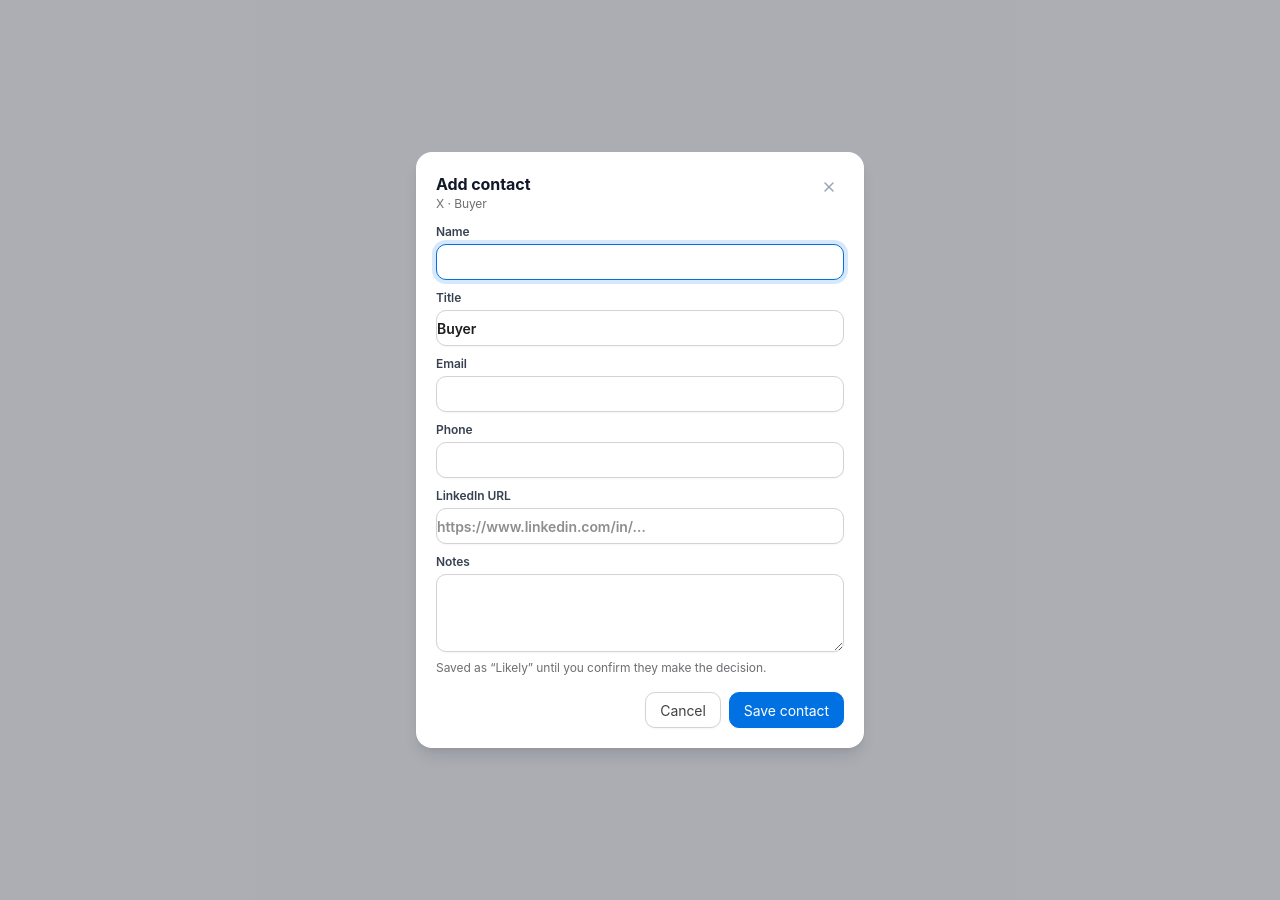
Test: Add contact (docs/mvp/15 §E) › refuses a bad email and keeps the modal open
Type "B" into the field labelled "Name". click: (640, 262)
box: left=436, top=244, right=844, bottom=280
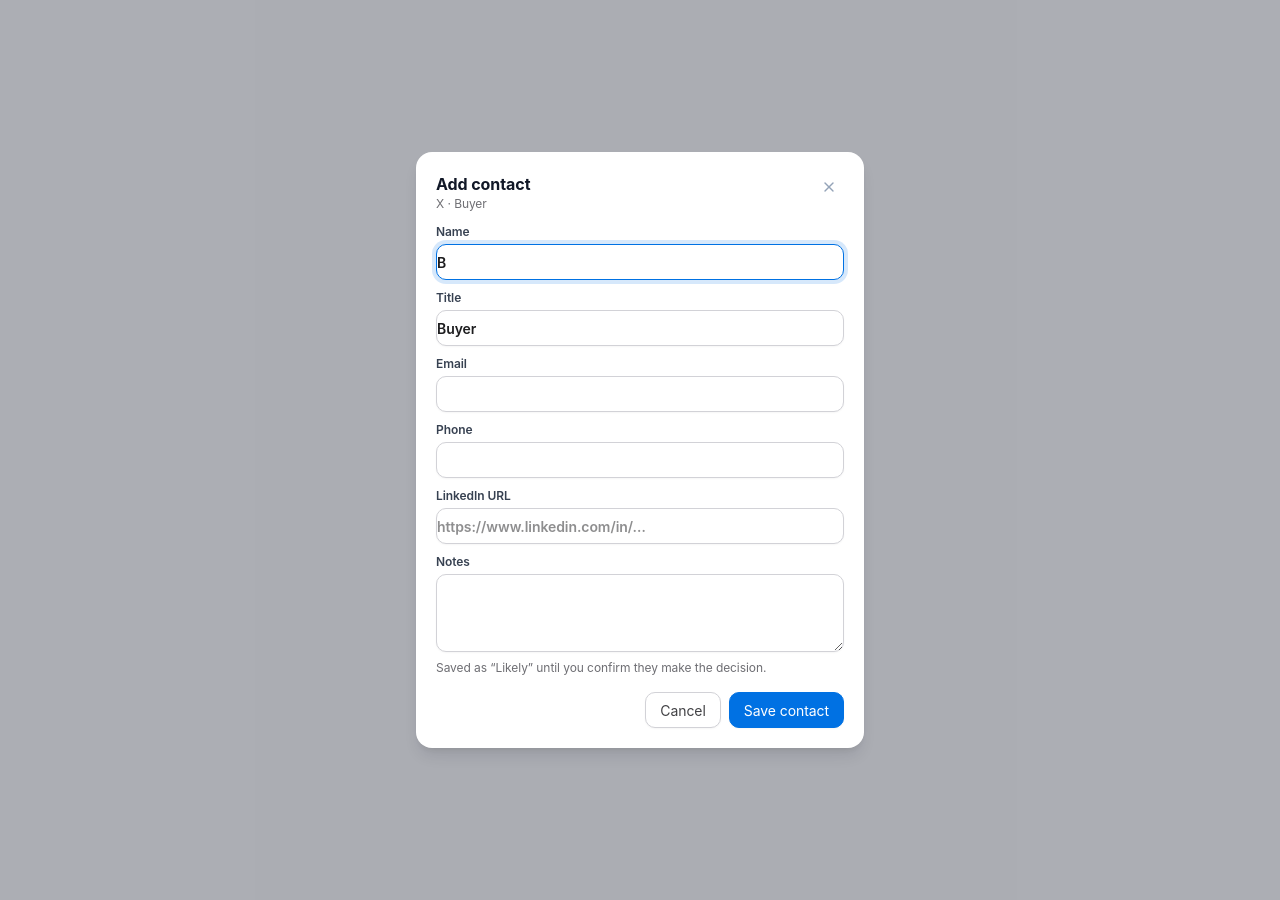
Type "not-an-email" into the field labelled "Email". click: (640, 394)
box: left=436, top=376, right=844, bottom=412
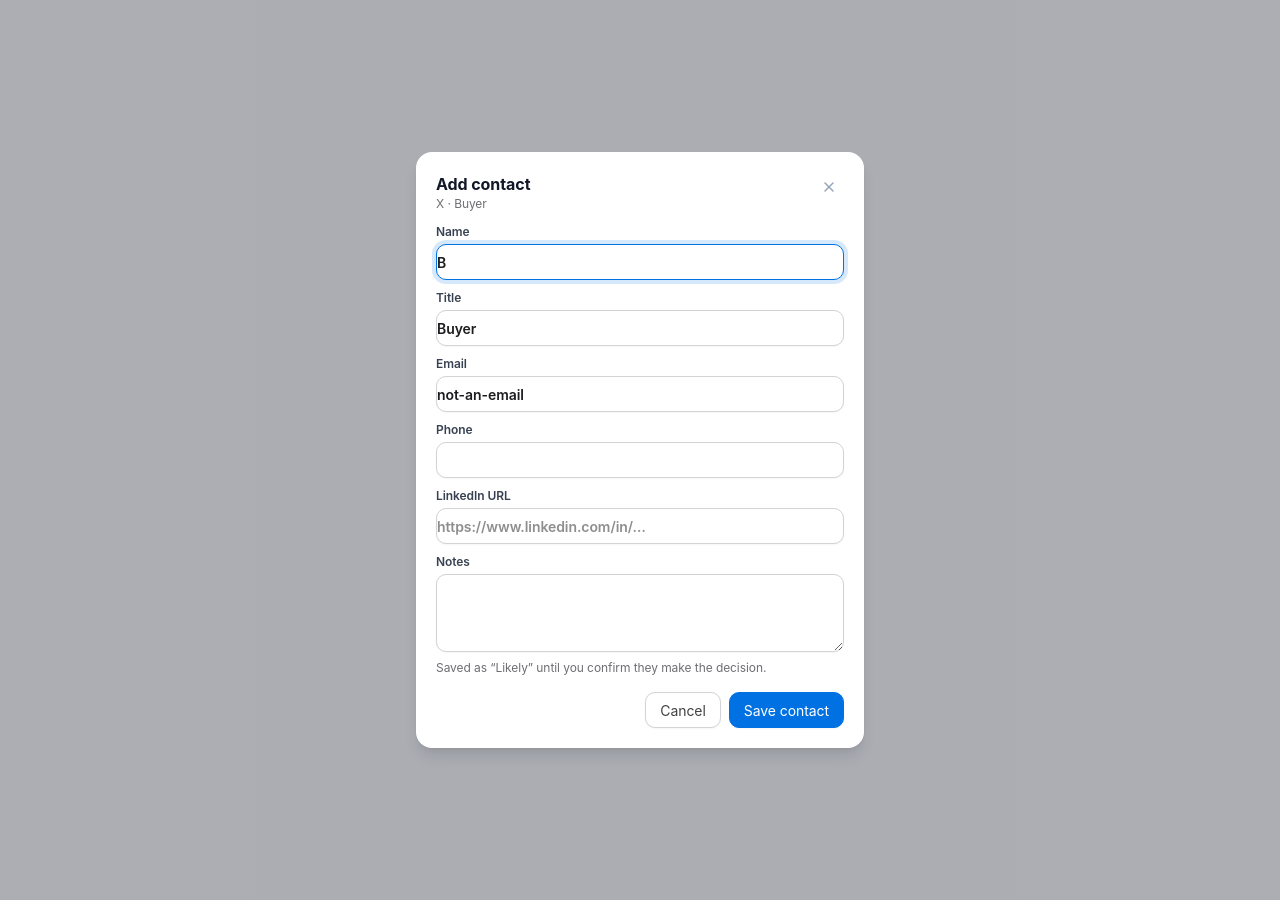
Click the button "Save contact". click: (786, 710)
box: left=729, top=692, right=844, bottom=728
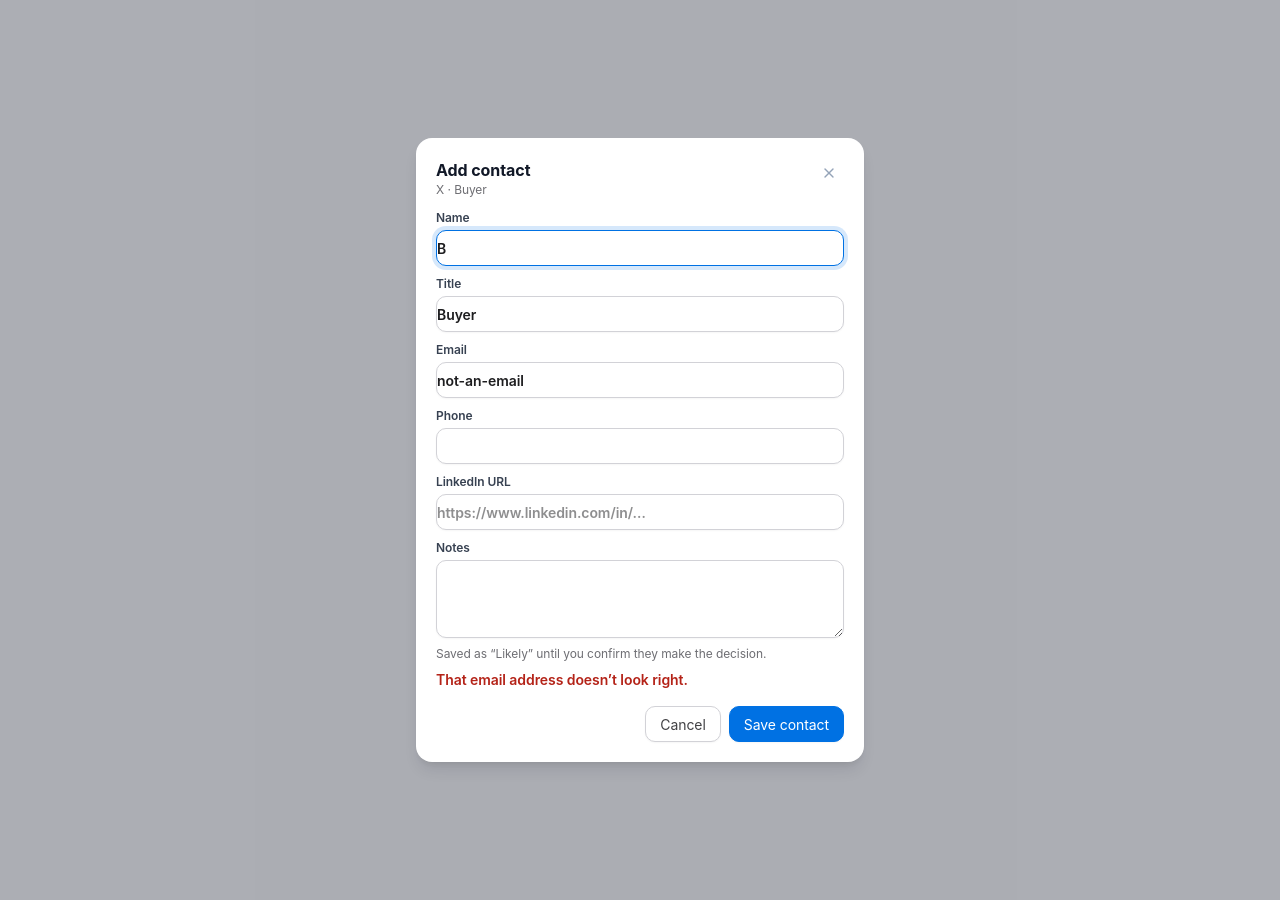
Now the message shows "email", box left=436, top=671, right=688, bottom=688
